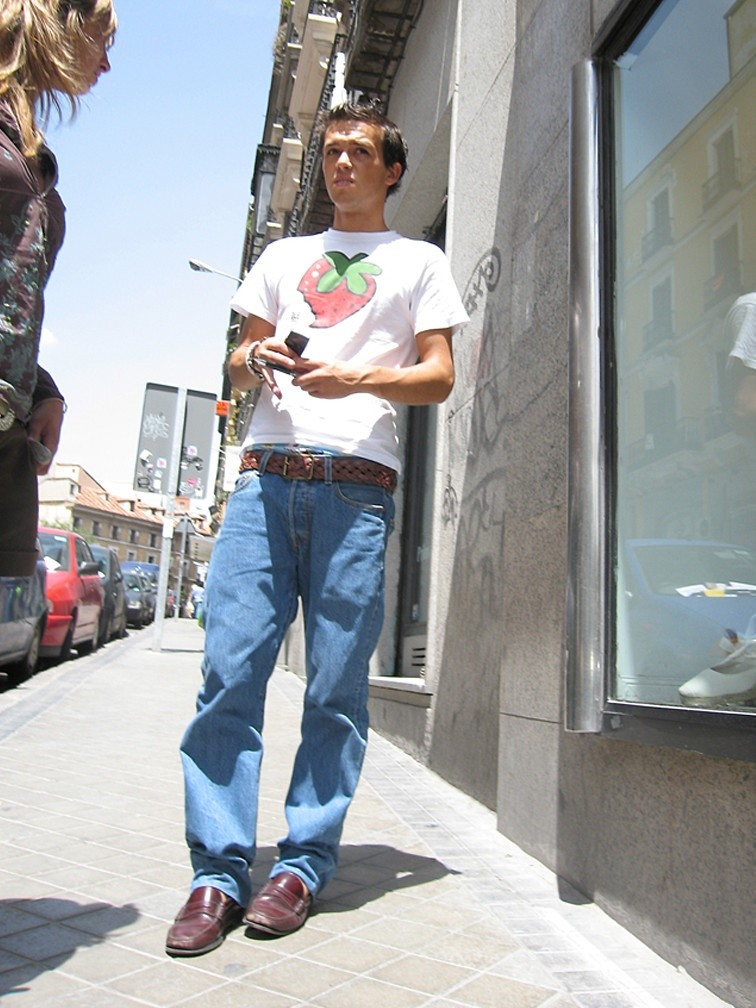face_no_mask: (5, 1, 118, 96), (317, 109, 408, 208)
